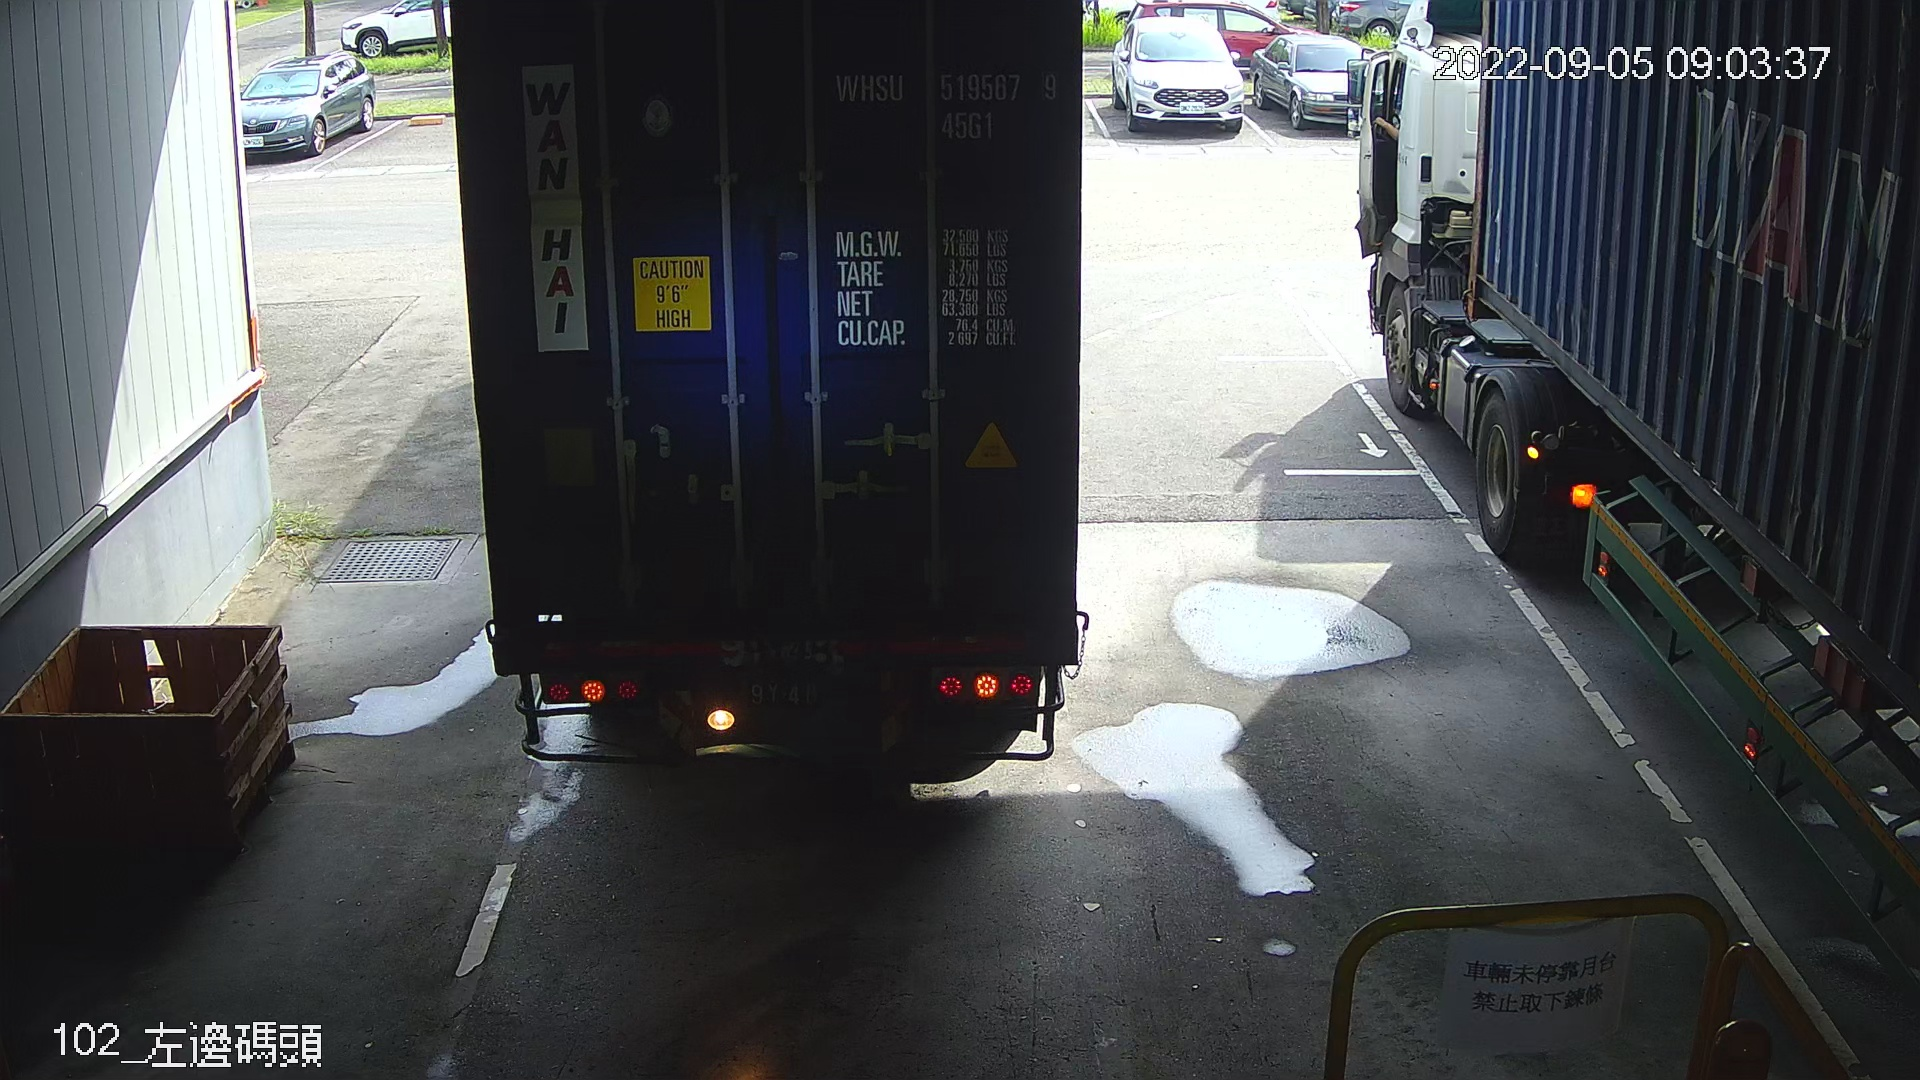container: (820, 55, 1069, 149)
